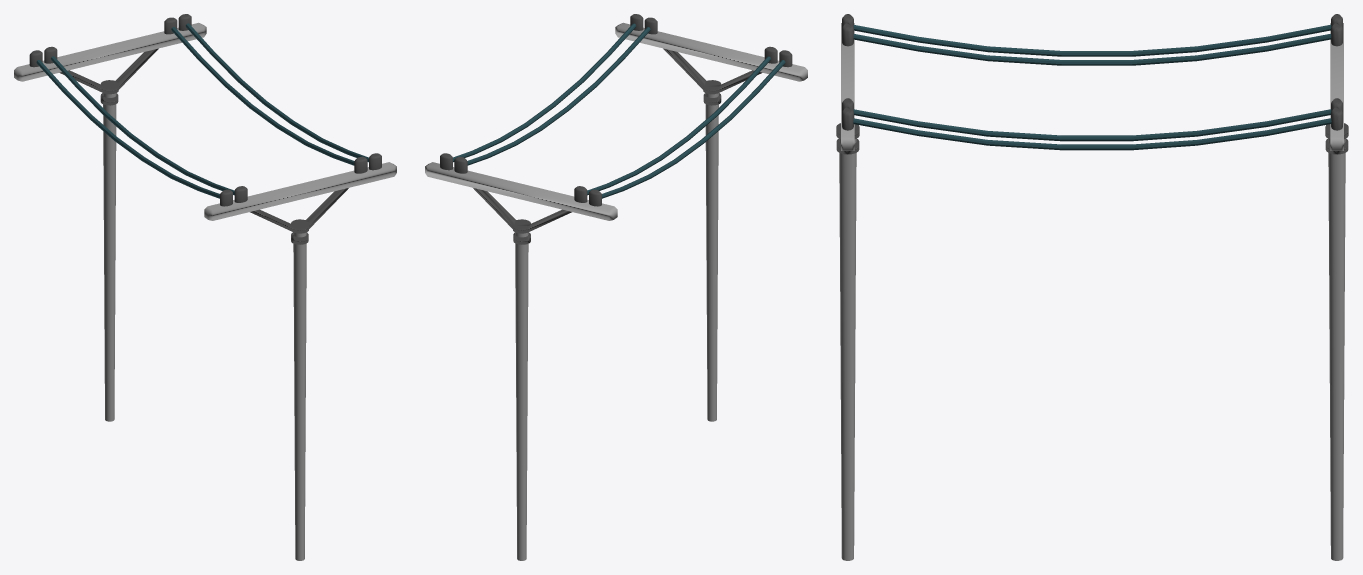
Rendered from direk.engel.fbx.
The picture shows the model from 3 angles, left to right: view 1: azimuth 30°, elevation 25°; view 2: azimuth 150°, elevation 25°; view 3: azimuth 270°, elevation 25°; orthographic projection. The views are drawn at different scales.
Parts seen in each view (by area): view 1: Cylinder.002; view 2: Cylinder.002; view 3: Cylinder.002.
Boxes of the visible parts, x1,y1,x2,y2 form: Cylinder.002: (14,14,396,560); Cylinder.002: (425,14,807,560); Cylinder.002: (836,14,1348,560).
Size of the model in its own units: 433 by 844 by 791.
